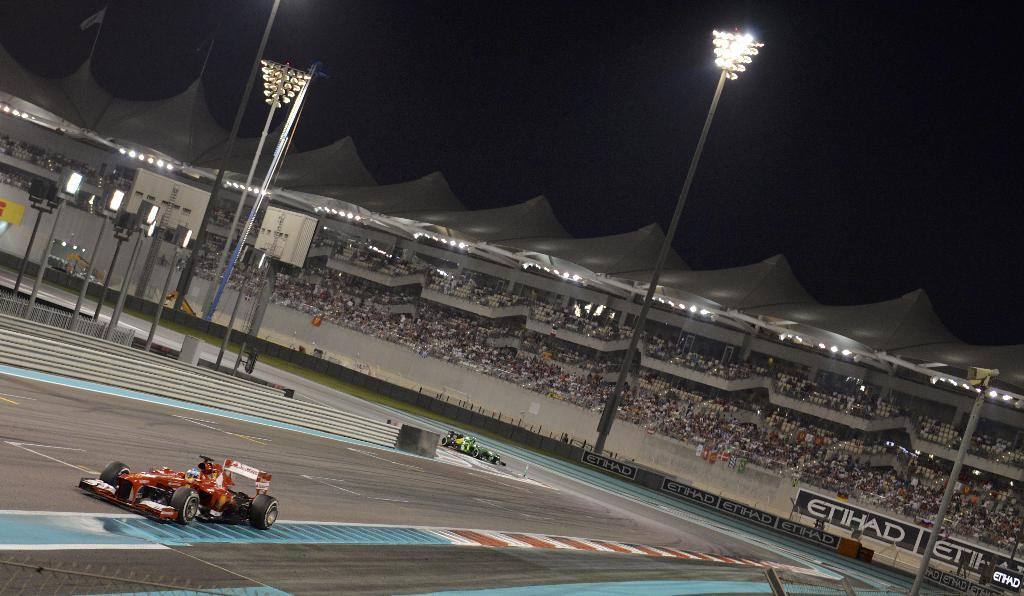Car: (81, 458, 279, 526), (447, 430, 505, 461)
